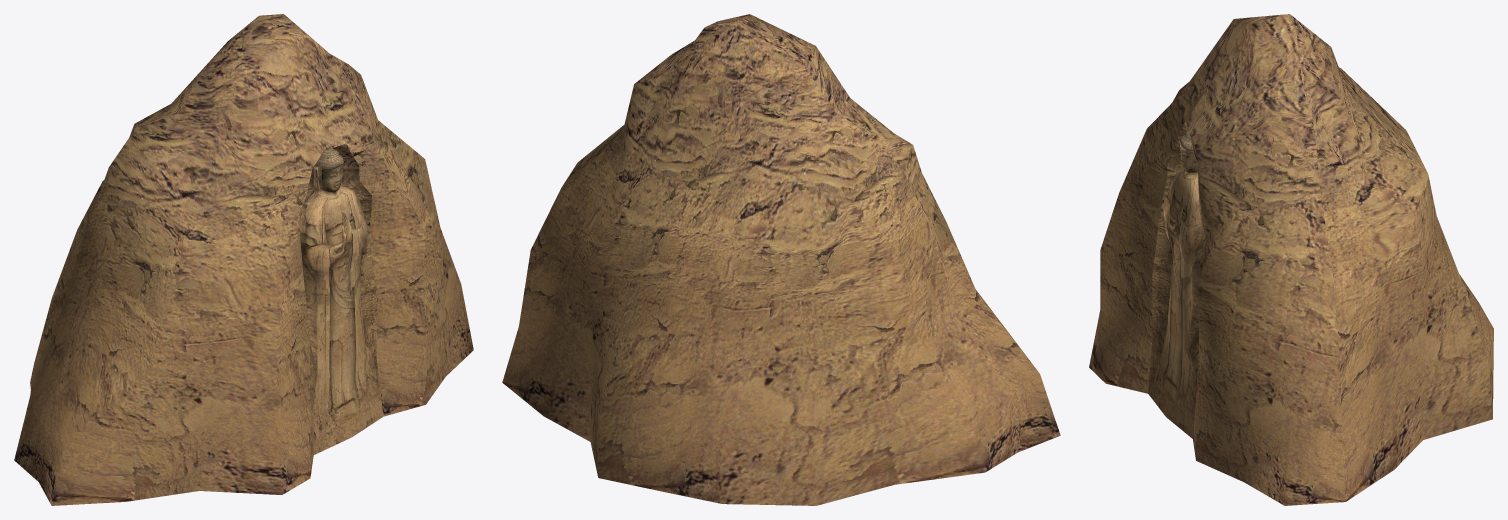
The model's file is w_cd_budawal.glb.
The picture shows the model from 3 angles, left to right: view 1: azimuth 30°, elevation 25°; view 2: azimuth 150°, elevation 25°; view 3: azimuth 270°, elevation 25°; orthographic projection.
Visible parts, largest first — view 1: W_CD_budawal_1, W_CD_budawal; view 2: W_CD_budawal_1; view 3: W_CD_budawal_1, W_CD_budawal.
Part boxes in pixels (box(x1,y1,x2,y2)): W_CD_budawal_1: box(14, 14, 473, 505); W_CD_budawal: box(298, 144, 383, 454); W_CD_budawal_1: box(502, 14, 1060, 505); W_CD_budawal_1: box(1089, 14, 1493, 505); W_CD_budawal: box(1148, 122, 1204, 438).
Bounding box in the file's own units: 57.51 × 44.76 × 42.
Materials: 2 (2 with a texture image).
